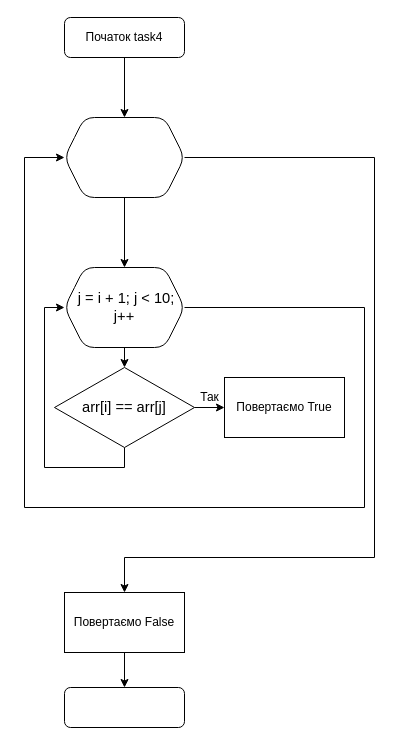
Some shapes in this 400 by 745 pixel diagram are drawn without their labels. The box of each missing label's shape, as (x1, y1, x2, y2) in pixels:
i = 0; i < 10; i++: (64, 116, 184, 198)
Кінець task4: (64, 686, 184, 728)
